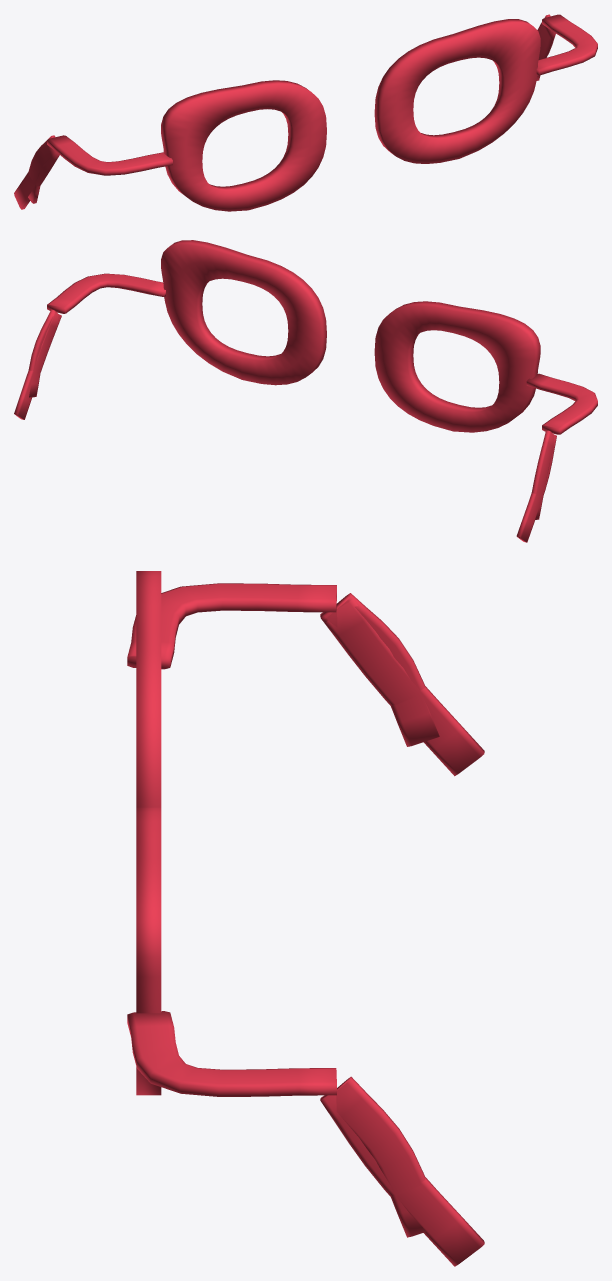
File: hero_mask-cat.glb
The picture shows the model from 3 angles, top to bottom: view 1: azimuth 30°, elevation 25°; view 2: azimuth 150°, elevation 25°; view 3: azimuth 270°, elevation 25°; orthographic projection. The views are drawn at different scales.
Parts seen in each view (by area): view 1: mask, mask.001, tie.001, tie, tail.003, tail.002, tail.001; view 2: mask, mask.001, tie, tie.001, tail.001, tail.002, tail.003, tail; view 3: tie, tail.003, mask.001, tie.001, mask, tail, tail.001, tail.002.
Boxes of the visible parts, <box> form: mask: <box>374,19,540,163</box>; mask.001: <box>161,80,326,211</box>; tie.001: <box>47,135,172,175</box>; tie: <box>536,14,597,75</box>; tail.003: <box>14,150,59,209</box>; tail.002: <box>28,135,55,203</box>; tail.001: <box>538,16,555,59</box>; mask: <box>161,240,326,385</box>; mask.001: <box>374,301,540,432</box>; tie: <box>47,273,165,313</box>; tie.001: <box>526,373,597,434</box>; tail.001: <box>14,312,61,419</box>; tail.002: <box>531,430,554,519</box>; tail.003: <box>516,434,556,542</box>; tail: <box>28,309,61,397</box>; tie: <box>127,1011,336,1096</box>; tail.003: <box>320,599,484,776</box>; mask.001: <box>136,571,161,807</box>; tie.001: <box>127,583,336,669</box>; mask: <box>136,807,161,1095</box>; tail: <box>336,1076,426,1237</box>; tail.001: <box>320,1095,484,1266</box>; tail.002: <box>323,593,439,746</box>.
Bounding box in the file's own units: 1.35 × 0.3604 × 0.403.
